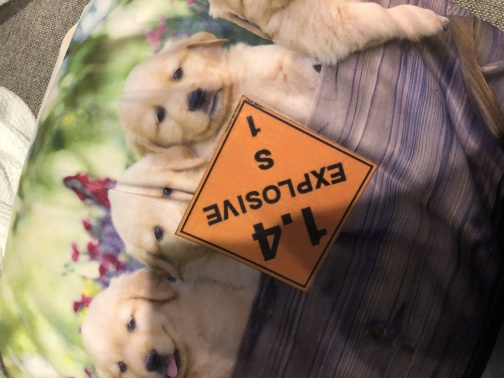Explosive: (178, 97, 378, 289)
